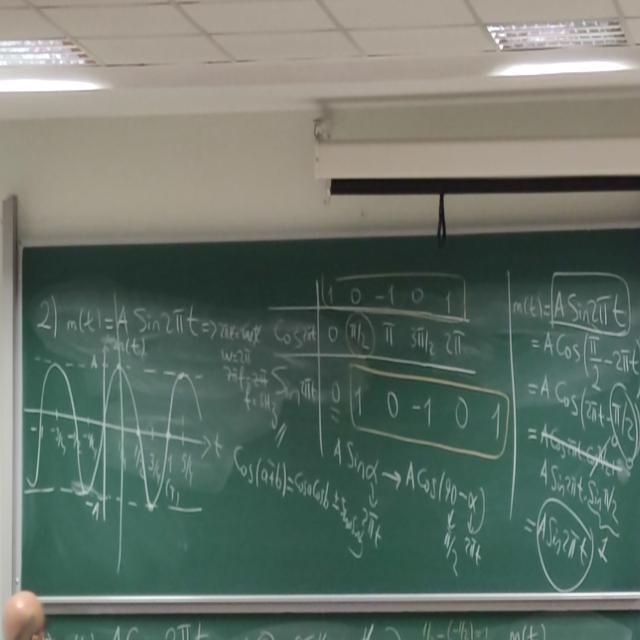image: (269, 265, 506, 461), (23, 339, 210, 528)
math: (334, 431, 491, 571), (530, 382, 640, 572), (225, 434, 372, 557), (511, 266, 640, 387), (59, 293, 204, 341), (216, 307, 276, 418)
